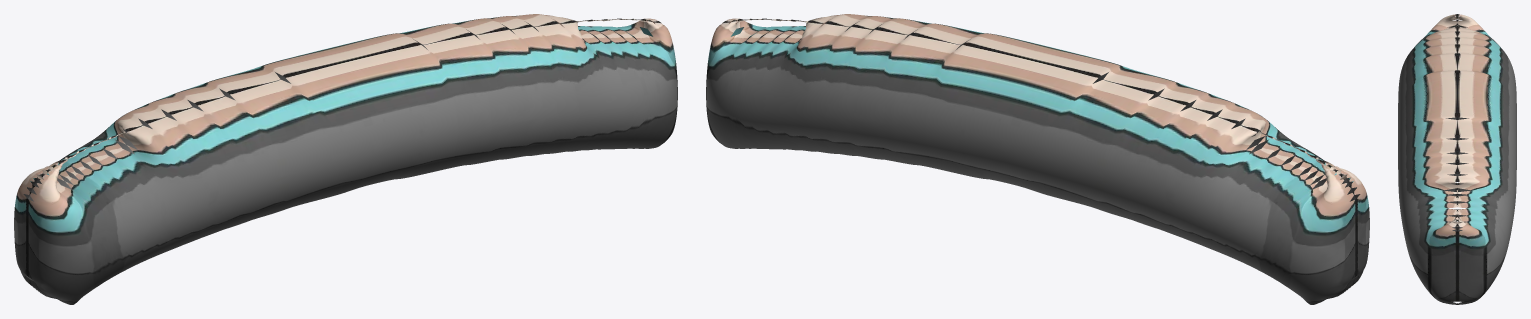
File: rear_bulkhead.glb
3 renders of one model, left to right at view 1: azimuth 30°, elevation 25°; view 2: azimuth 150°, elevation 25°; view 3: azimuth 270°, elevation 25°, orthographic. The views are drawn at different scales.
Visible parts, largest first — view 1: rear_bulkhead; view 2: rear_bulkhead; view 3: rear_bulkhead.
Part boxes in pixels (x1,y1,x2,y2): rear_bulkhead: (14, 14, 677, 304); rear_bulkhead: (706, 14, 1369, 304); rear_bulkhead: (1398, 14, 1516, 304).
Size of the model in its own units: 0.989 by 0.2398 by 0.2251.
1 material, 1 textured.
